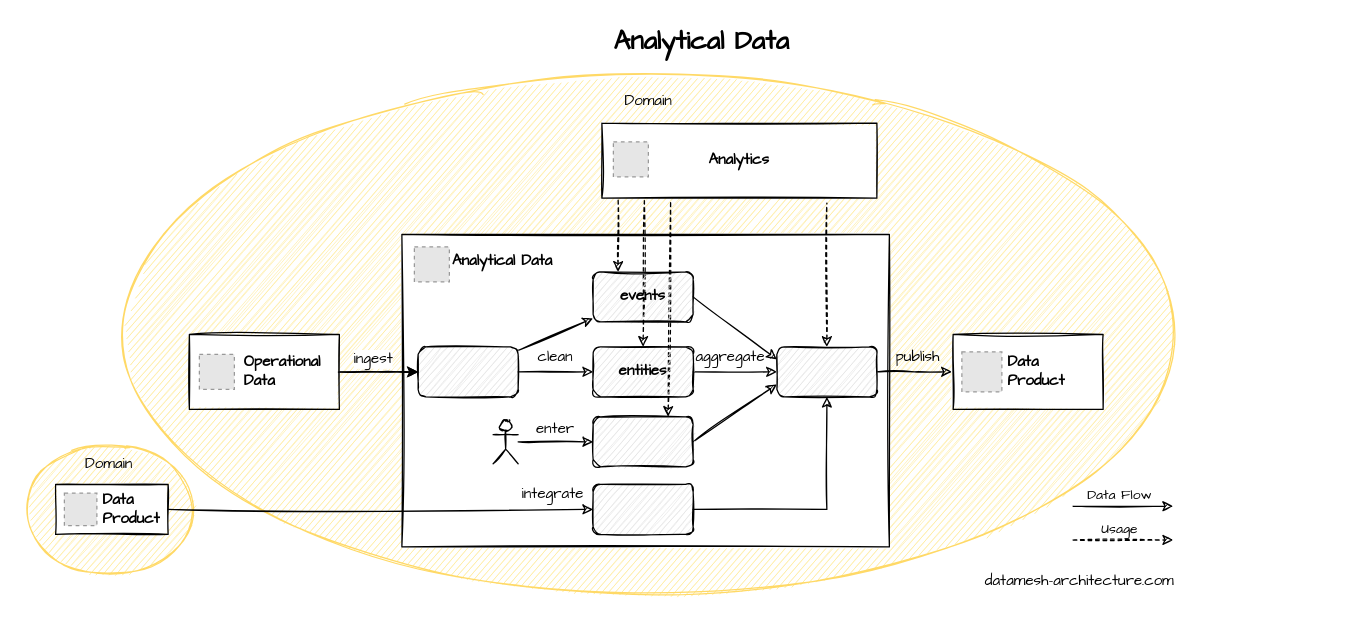
The diagram is 1361 pixels wide and 621 high, and some of its shapes have lost their labels. Grey dashed boxes stand in for pictures. Each missing label, with the centre of its shape:
"aggregations" belongs at pixel 826 371.
"external" belongs at pixel 642 508.
"manual" belongs at pixel 642 441.
"raw" belongs at pixel 467 371.
